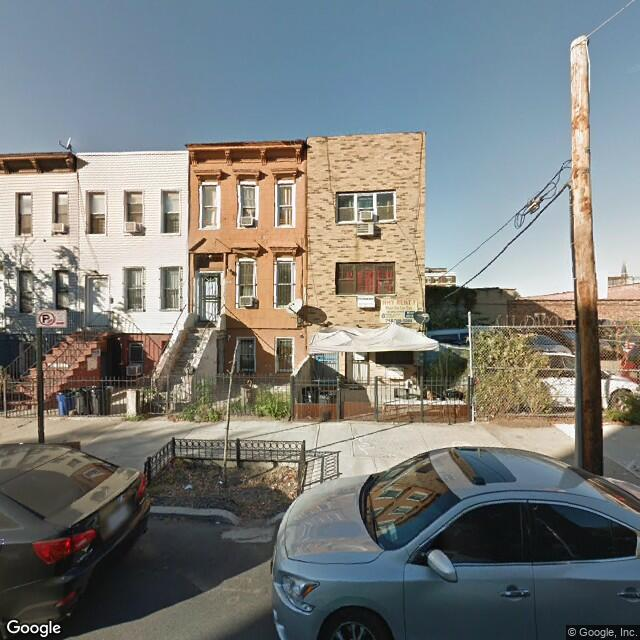litter: (183, 481, 194, 488), (220, 477, 226, 481)
